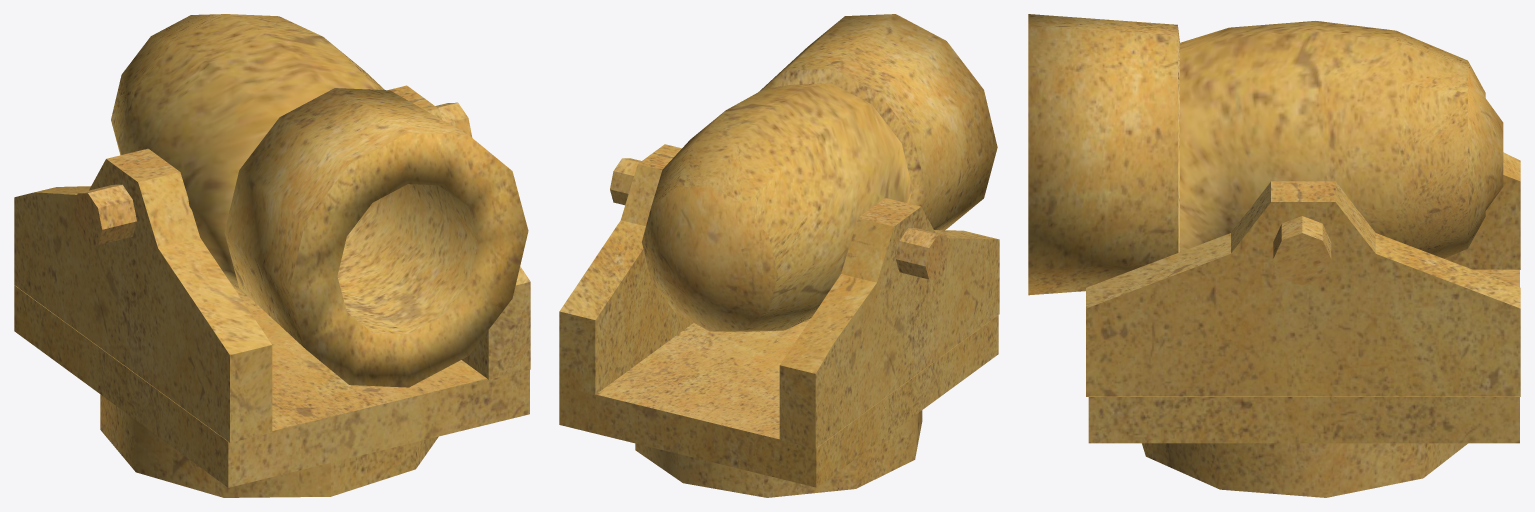
File: PotatoCannon2.fbx
3 views of the same model, side by side, from view 1: azimuth 30°, elevation 25°; view 2: azimuth 150°, elevation 25°; view 3: azimuth 270°, elevation 25° (orthographic). The views are drawn at different scales.
Visible parts, largest first — view 1: Cannon.001, Stand.001; view 2: Stand.001, Cannon.001; view 3: Stand.001, Cannon.001.
Boxes of the visible parts, bbox=[...] form: Cannon.001: bbox=[111, 14, 528, 387]; Stand.001: bbox=[14, 85, 530, 497]; Stand.001: bbox=[559, 144, 999, 497]; Cannon.001: bbox=[642, 14, 997, 332]; Stand.001: bbox=[1086, 152, 1520, 497]; Cannon.001: bbox=[1028, 14, 1503, 295].
Bounding box in the file's own units: 3.75 × 3.82 × 4.28.
3 materials, 3 textured.
